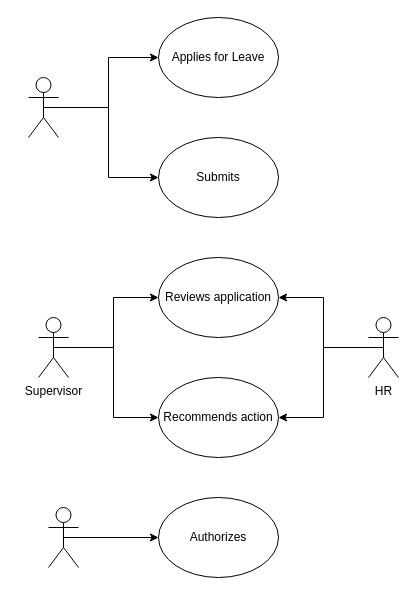
The diagram is 416 pixels wide and 606 high, and some of its shapes have lost their labels. Each missing label, with the centre of its shape:
"Actor" goes at [63,537].
"Employee" goes at [43,107].
